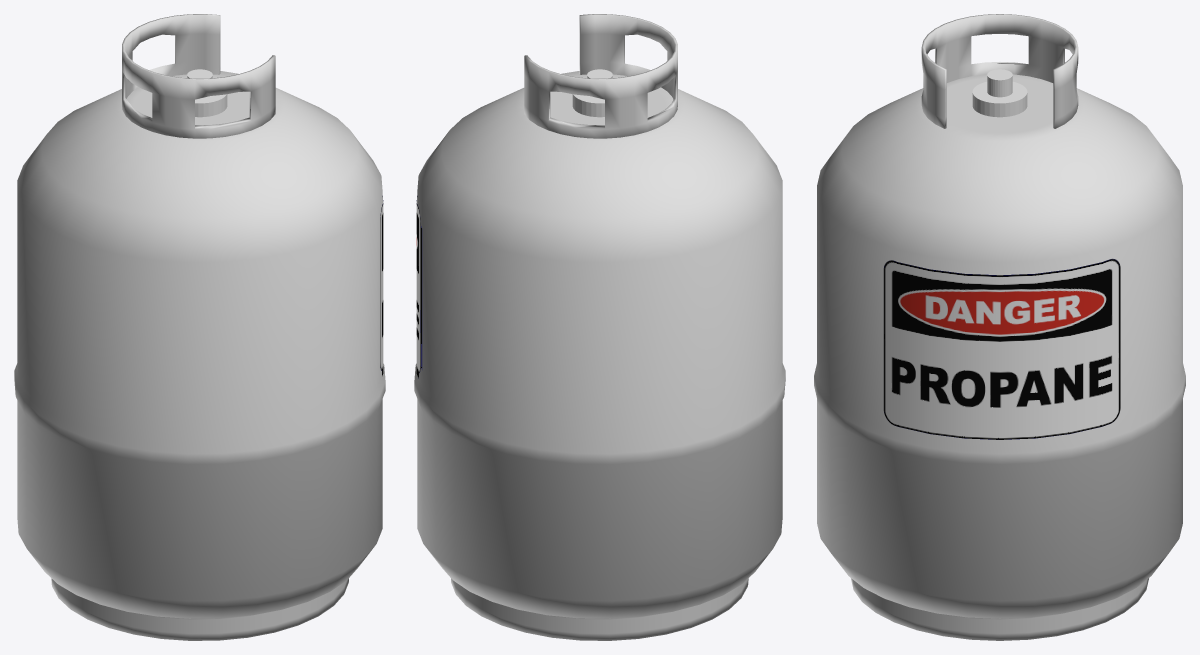
The model's file is Propane.fbx.
3 renders of one model, left to right at view 1: azimuth 30°, elevation 25°; view 2: azimuth 150°, elevation 25°; view 3: azimuth 270°, elevation 25°, orthographic.
Visible parts, largest first — view 1: Circle, Cylinder.001; view 2: Circle, Cylinder.001; view 3: Circle, Cylinder.001.
Boxes of the visible parts, x1=… form: Circle: x1=14, y1=14, x2=385, y2=640; Cylinder.001: x1=187, y1=69, x2=227, y2=117; Circle: x1=414, y1=14, x2=785, y2=640; Cylinder.001: x1=572, y1=69, x2=612, y2=117; Circle: x1=814, y1=14, x2=1185, y2=640; Cylinder.001: x1=972, y1=69, x2=1027, y2=117.
Bounding box in the file's own units: 75.44 × 75.44 × 119.
